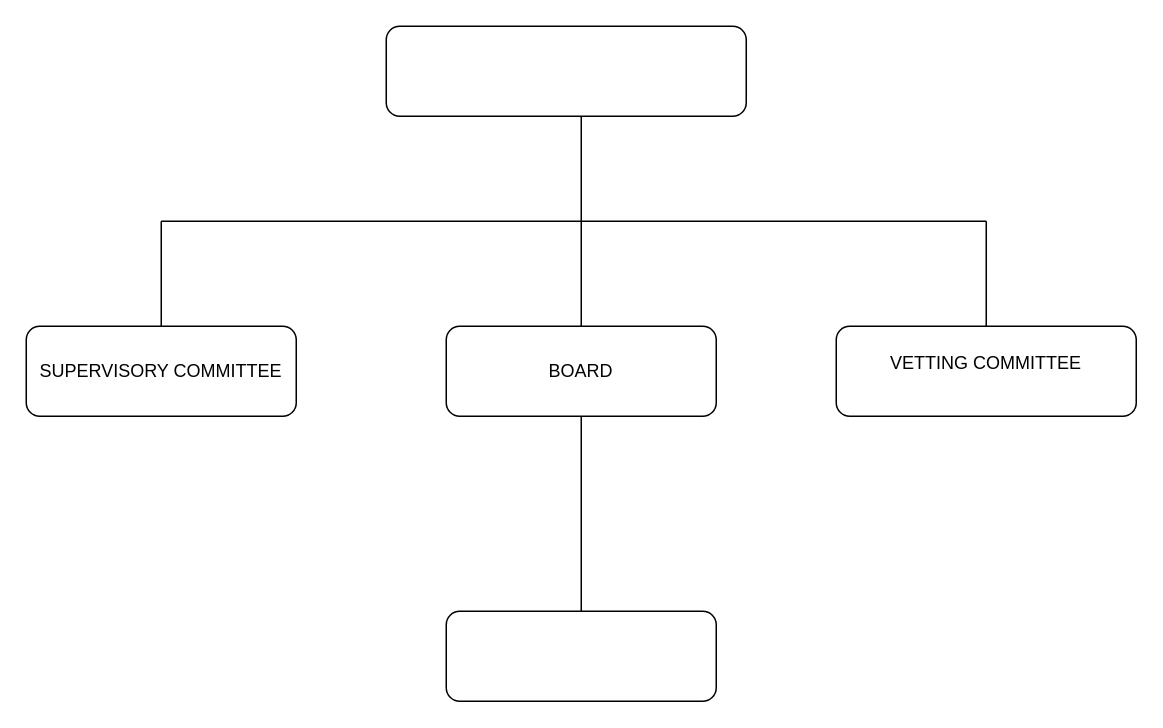
Image size: 1163x728. Some labels were removed from this diagram. The centre of each missing label's shape, as x and y in pixels:
GOVERNANCE STRUCTURE: the point at 565,70
MANAGEMENT COMMITTEE: the point at 580,655
